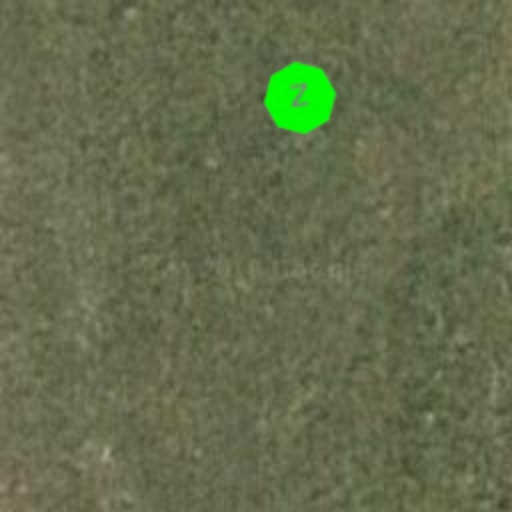octagon: (258, 56, 342, 140)
